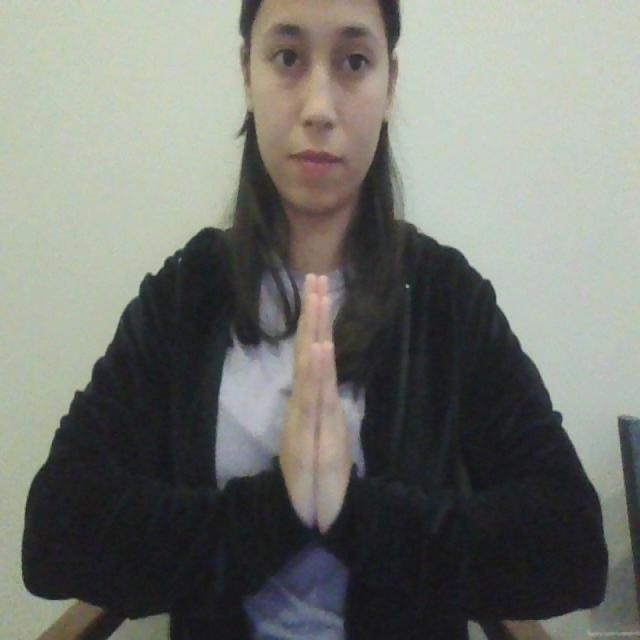Ozur-Dilemek: (278, 264, 362, 552)
